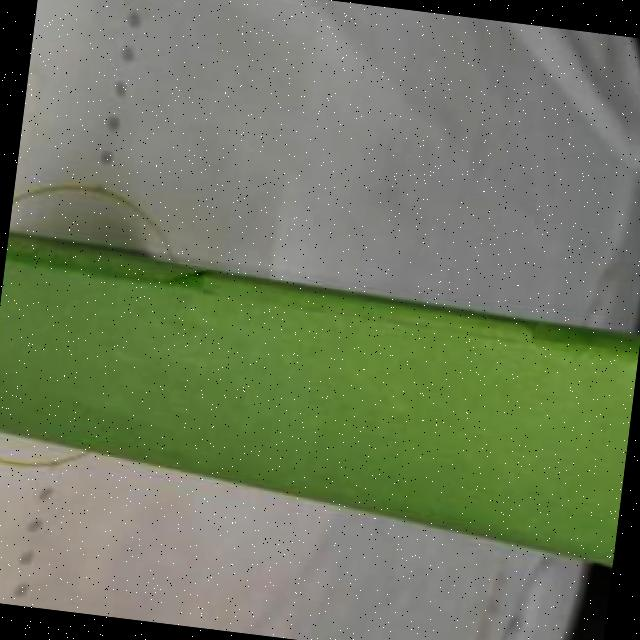greenbox: (0, 231, 640, 568)
